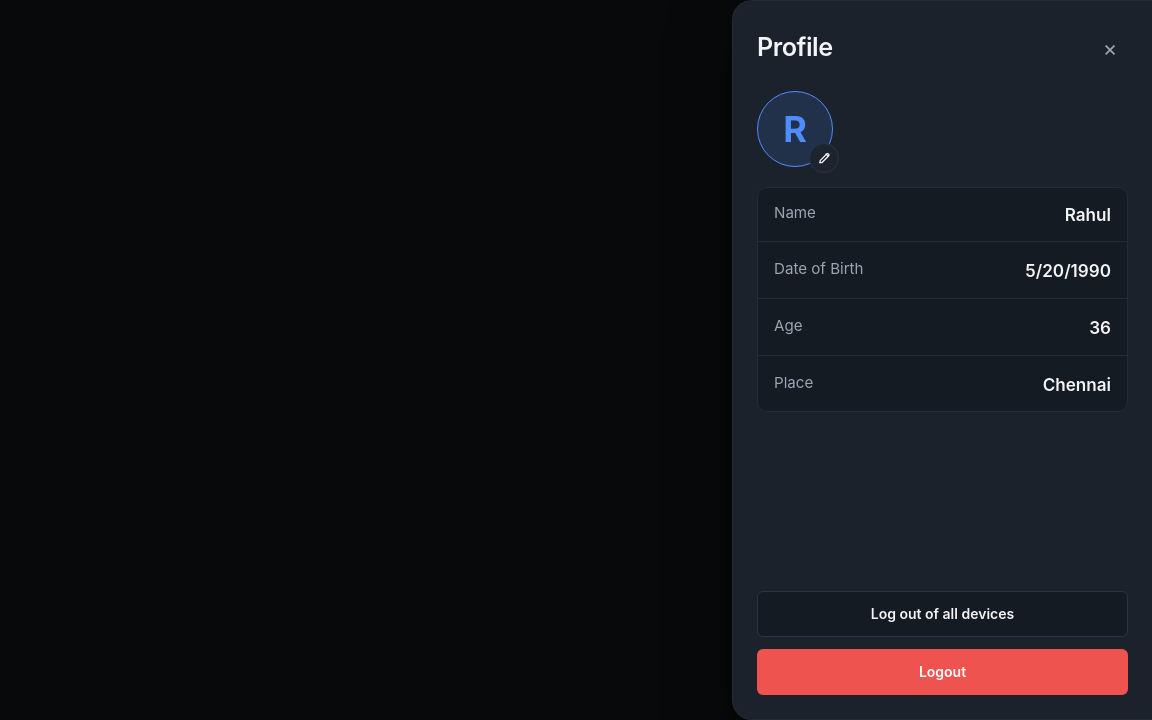
ProfileDialog › Log out of all devices shows an error and stays logged in when it fails
Click the button "Log out of all devices". click: {"x": 942, "y": 614}
box: [757,591,1128,637]
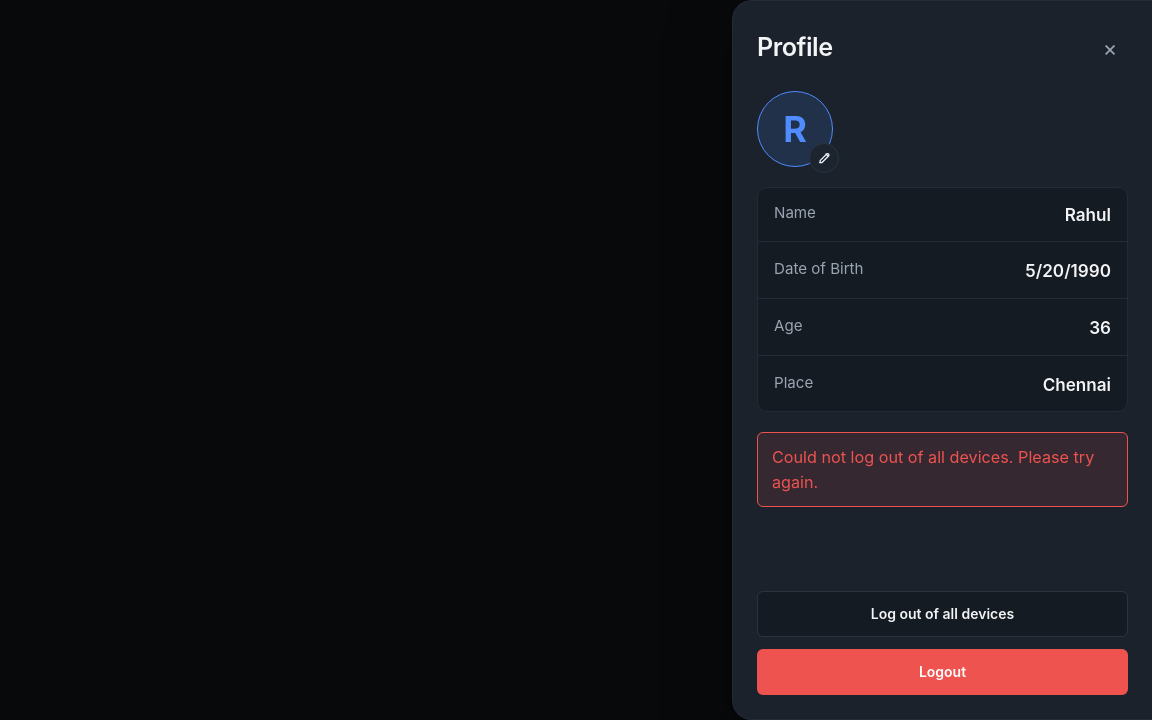
Expected: the message reads "Could not log out of all devices. Please try again.", [772,447,1094,492]
